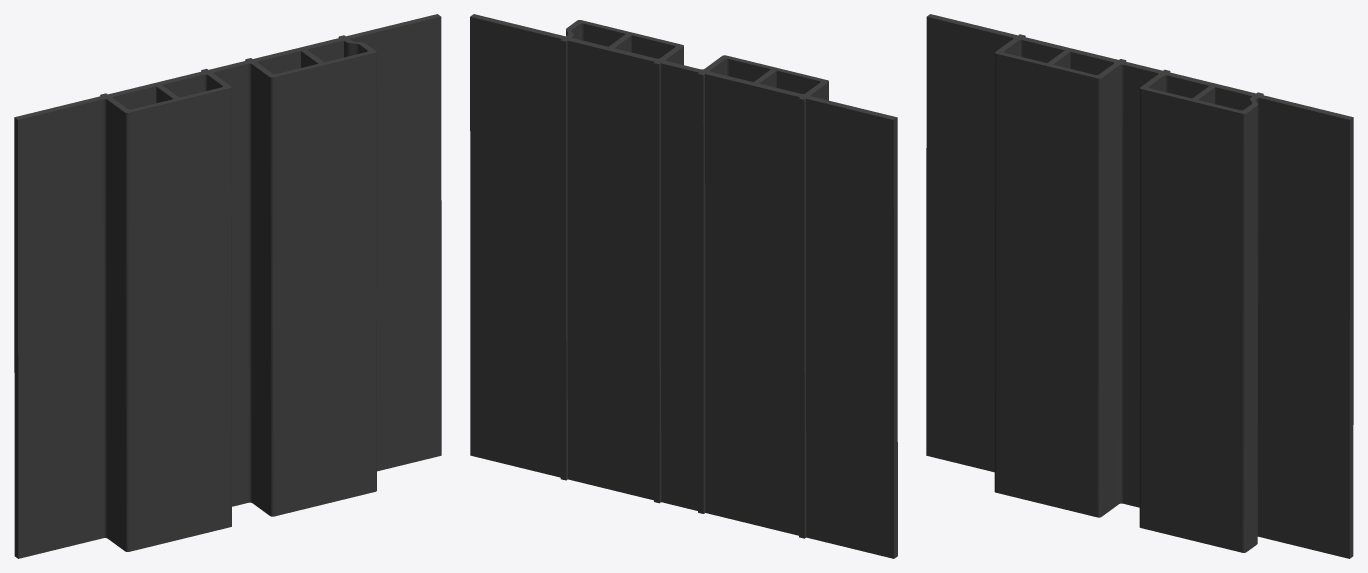
The model's file is 2liantrasit.glb.
3 views of the same model, side by side, from view 1: azimuth 30°, elevation 25°; view 2: azimuth 150°, elevation 25°; view 3: azimuth 330°, elevation 25° (orthographic).
Parts seen in each view (by area): view 1: Plane.008; view 2: Plane.008; view 3: Plane.008.
Boxes of the visible parts, <box> form: Plane.008: <box>14,14,441,558</box>; Plane.008: <box>470,14,897,558</box>; Plane.008: <box>926,14,1353,558</box>.
Bounding box in the file's own units: 8.1 × 8.03 × 0.8706.
1 material, 1 textured.
